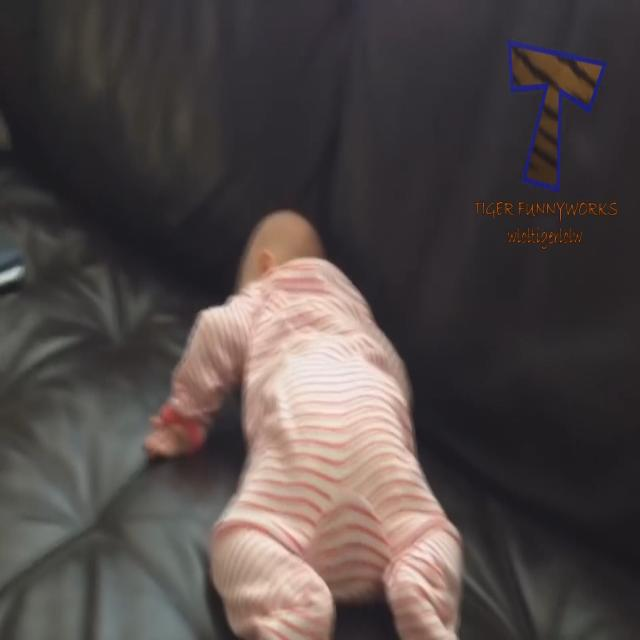dangerous: (145, 206, 469, 640)
